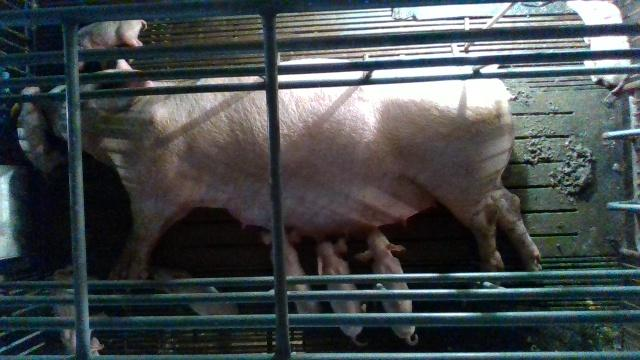piglet: (355, 228, 419, 347), (566, 1, 632, 101), (315, 238, 368, 348), (257, 229, 319, 313), (51, 265, 105, 357), (9, 87, 64, 174), (58, 19, 148, 72), (158, 274, 239, 316)
sow-sleep-lactate: (44, 58, 544, 272)
